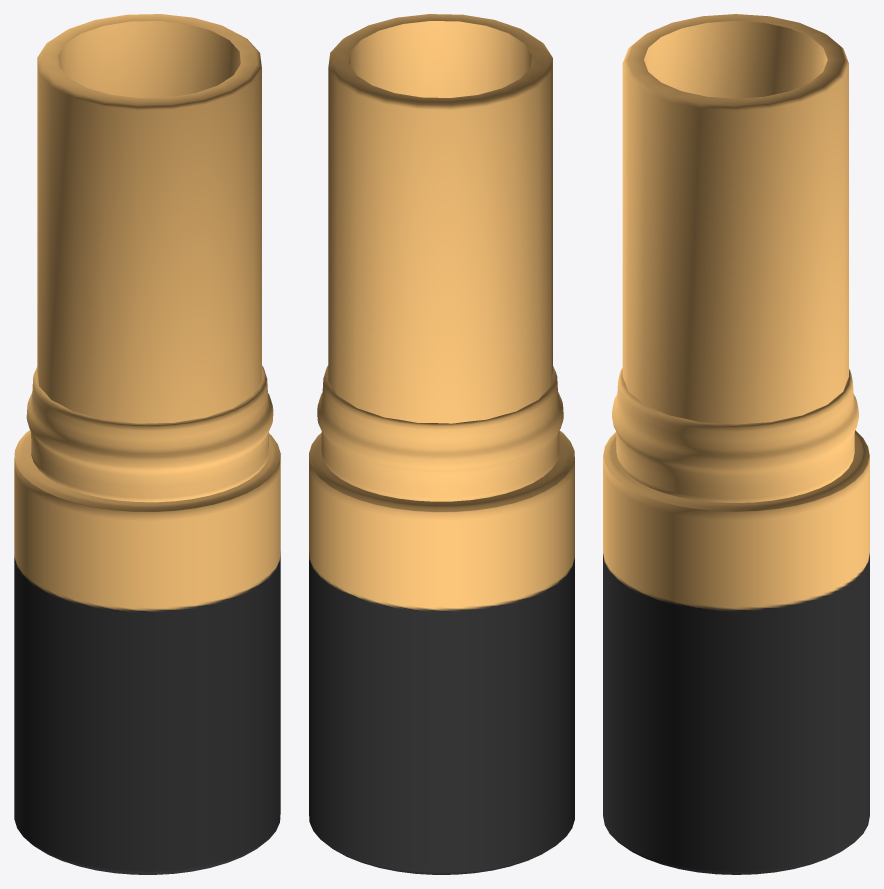
File: lipstick_cover.obj
3 renders of one model, left to right at view 1: azimuth 30°, elevation 25°; view 2: azimuth 150°, elevation 25°; view 3: azimuth 270°, elevation 25°, orthographic.
Visible parts, largest first — view 1: obj1; view 2: obj1; view 3: obj1.
Boxes of the visible parts, x1,y1,x2,y2 form: obj1: (14, 14, 280, 874); obj1: (309, 14, 574, 874); obj1: (603, 14, 869, 874).
Bounding box in the file's own units: 0.4955 × 1.57 × 0.4955.
1 material, 1 textured.
